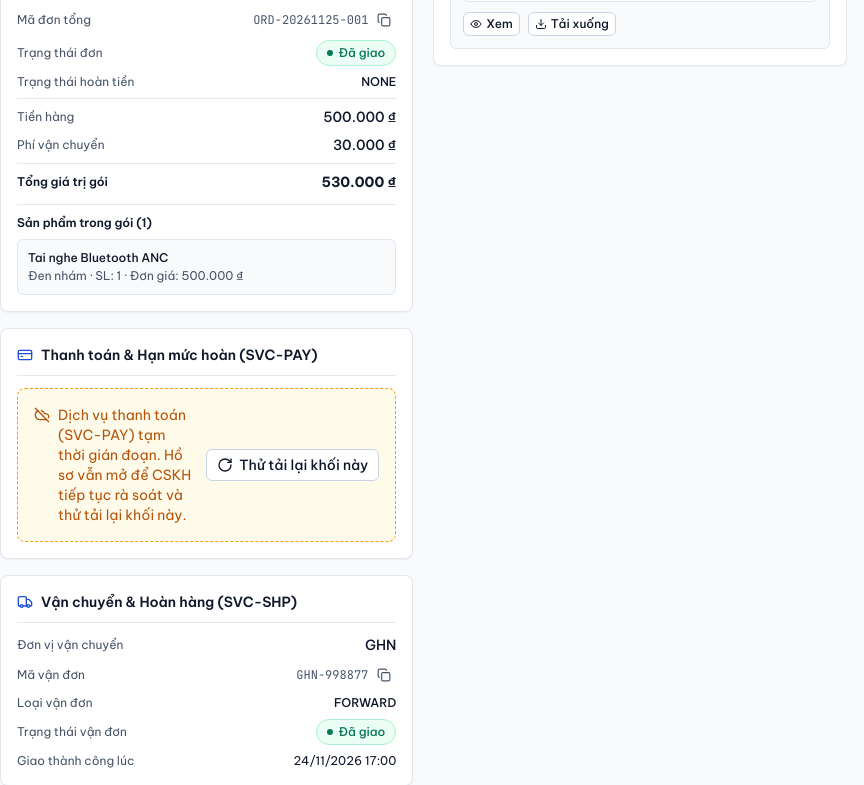
T4-12: 3-Column Arbitration Workspace (/admin/complaints/:id) › TC-CPL-07: degrades gracefully with ServiceFallbackBanner when SVC-PAY is down and retries
The image size is (864, 785).
(page scrolled)
Check: the text "Tai nghe Bluetooth ANC" is shown, box [28, 250, 168, 265]
Check: the text "Dịch vụ thanh toán (SVC-PAY) tạm thời gián đoạn" is shown, box [58, 406, 191, 524]
Click the button "Thử tải lại khối này" at (293, 465), box [206, 449, 379, 481]
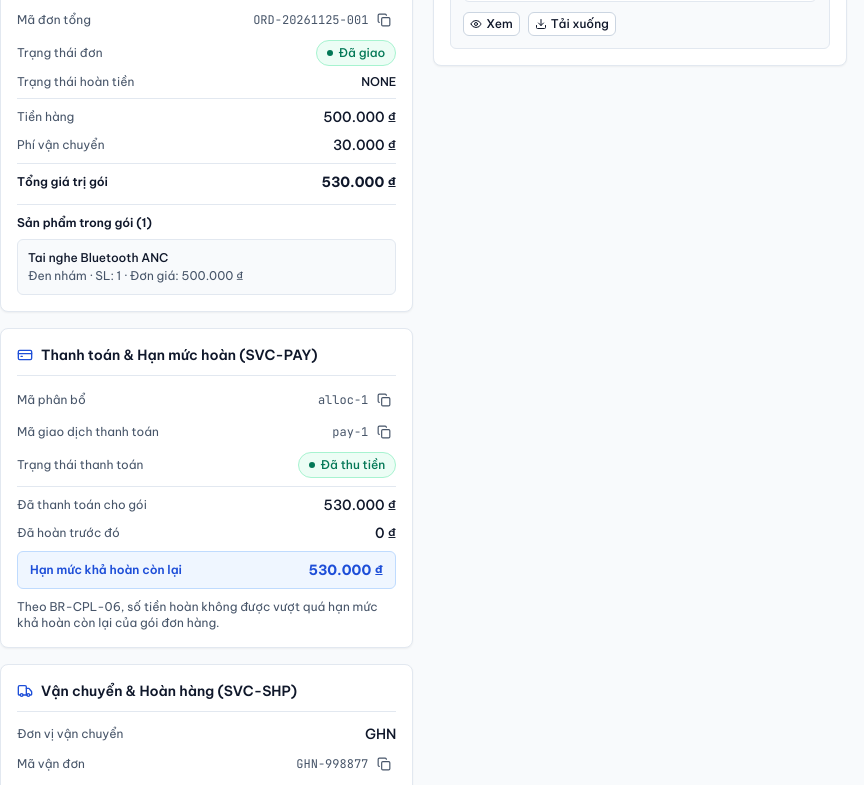
Check: the text "Hạn mức khả hoàn còn lại" is shown, box [30, 562, 182, 578]
